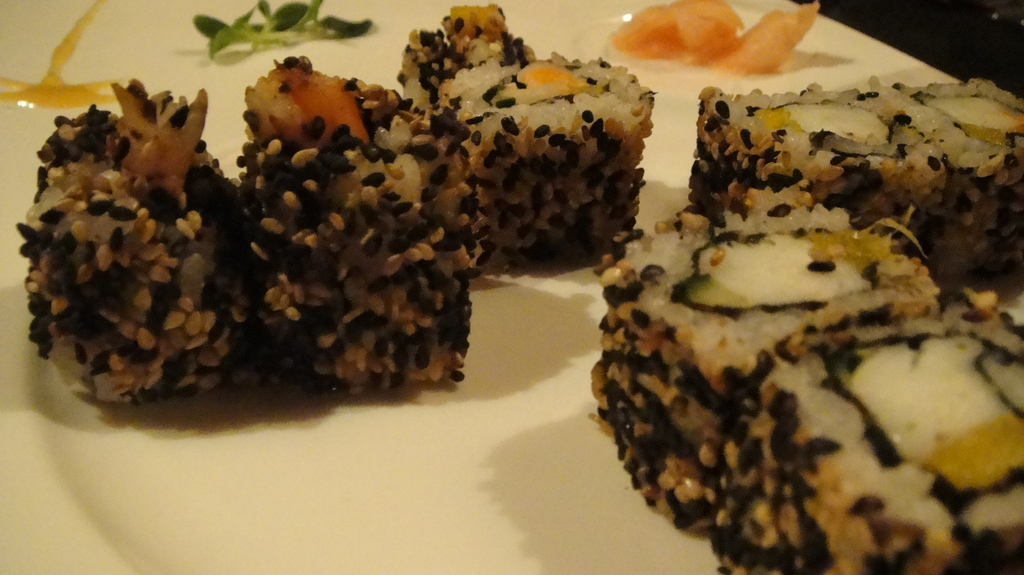sushi: (17, 1, 1023, 574), (620, 2, 839, 85)
